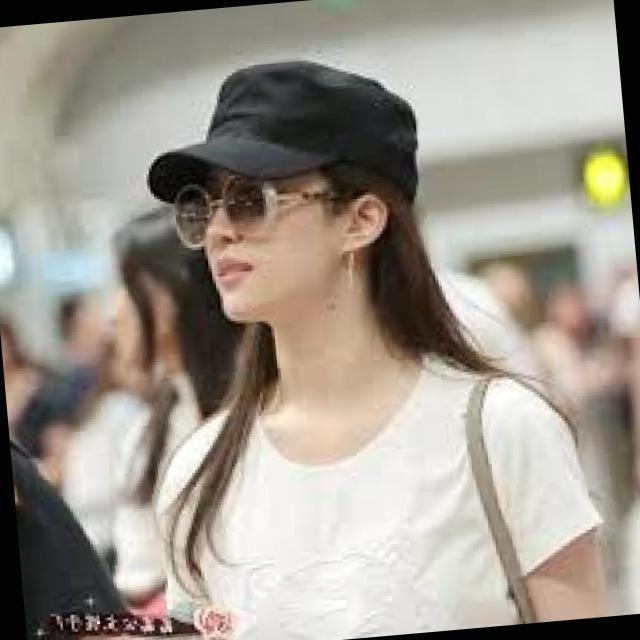cap: (109, 27, 436, 235)
